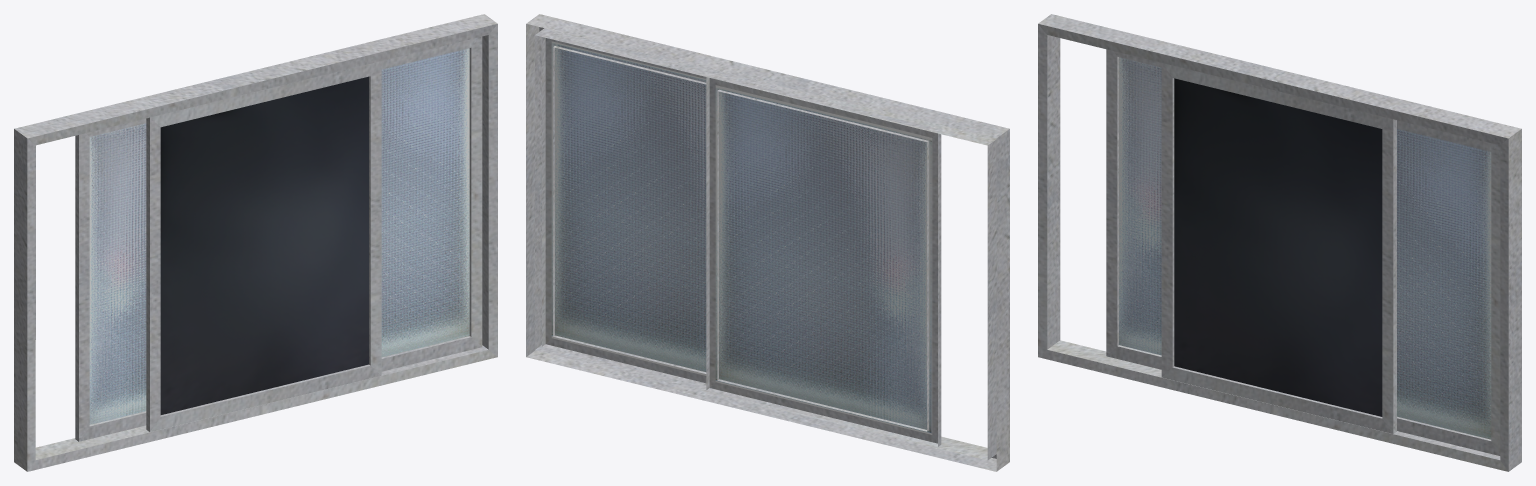
Rendered from Window_1m_002.fbx.
3 renders of one model, left to right at view 1: azimuth 30°, elevation 25°; view 2: azimuth 150°, elevation 25°; view 3: azimuth 330°, elevation 25°, orthographic.
Parts seen in each view (by area): view 1: Window_1m_002; view 2: Window_1m_002; view 3: Window_1m_002.
Part boxes in pixels (bbox=[...]): Window_1m_002: bbox=[14, 14, 497, 471]; Window_1m_002: bbox=[526, 14, 1009, 471]; Window_1m_002: bbox=[1038, 14, 1521, 471].
Size of the model in its own units: 148 by 100 by 7.28.
1 material, 1 textured.
